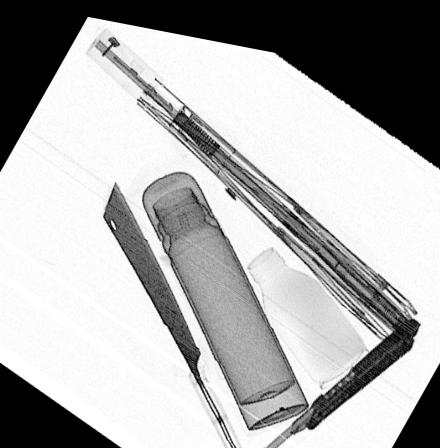Knife: (101, 176, 248, 448), (263, 300, 421, 441)
